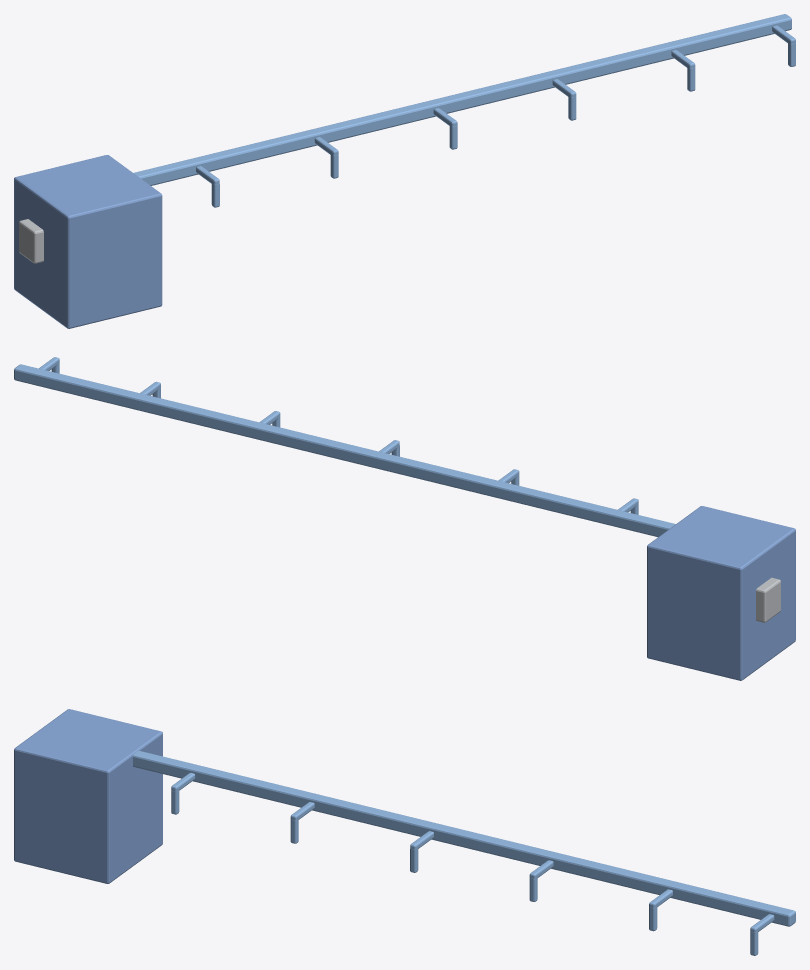
File: грядка2.glb
3 views of the same model, one above another, from view 1: azimuth 30°, elevation 25°; view 2: azimuth 150°, elevation 25°; view 3: azimuth 330°, elevation 25° (orthographic).
Visible parts, largest first — view 1: грядка.001; view 2: грядка.001; view 3: грядка.001.
Part boxes in pixels (x1,y1,x2,y2): грядка.001: (14, 14, 795, 328); грядка.001: (14, 357, 795, 680); грядка.001: (14, 709, 795, 955).
Bounding box in the file's own units: 6.38 × 0.9091 × 0.8.
